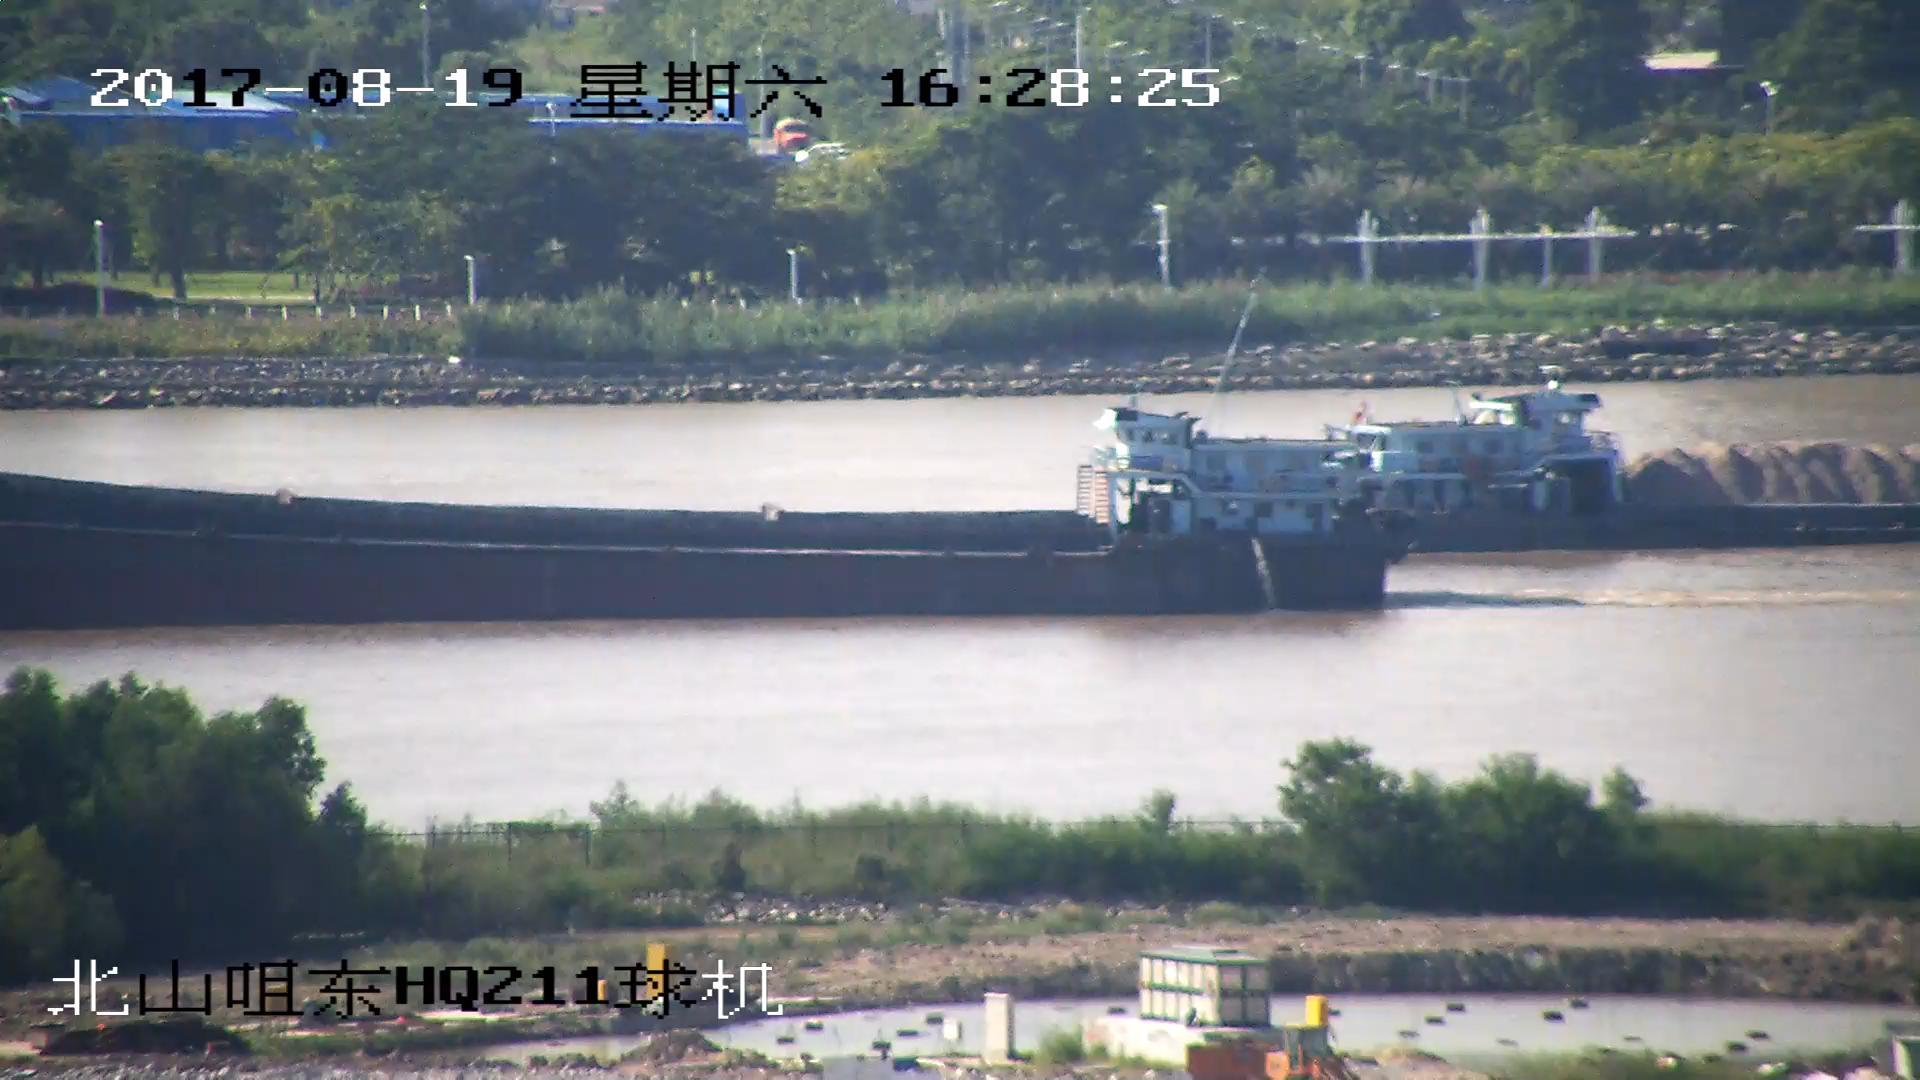Ship: (3, 407, 1402, 621), (1341, 392, 1920, 549)
